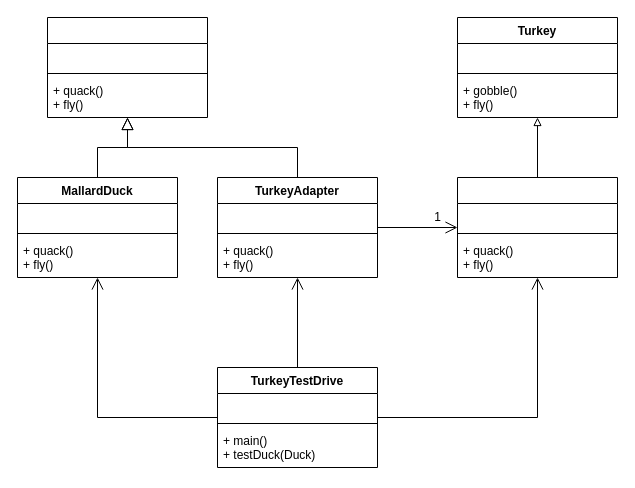
The diagram is 635 pixels wide and 488 high, and some of its shapes have lost their labels. Each missing label, with the box of its shape:
Duck: (46, 16, 208, 118)
WildTurkey: (456, 176, 618, 278)
